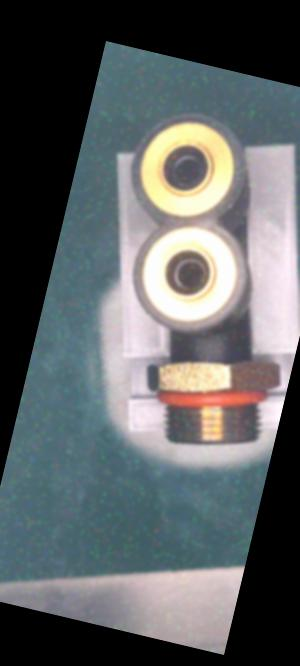white mark: (203, 350, 215, 366)
